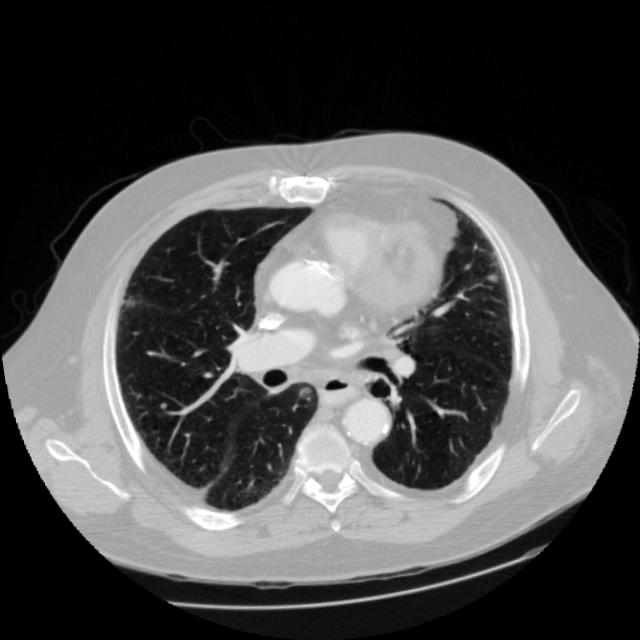nodule: (482, 266, 502, 286)
